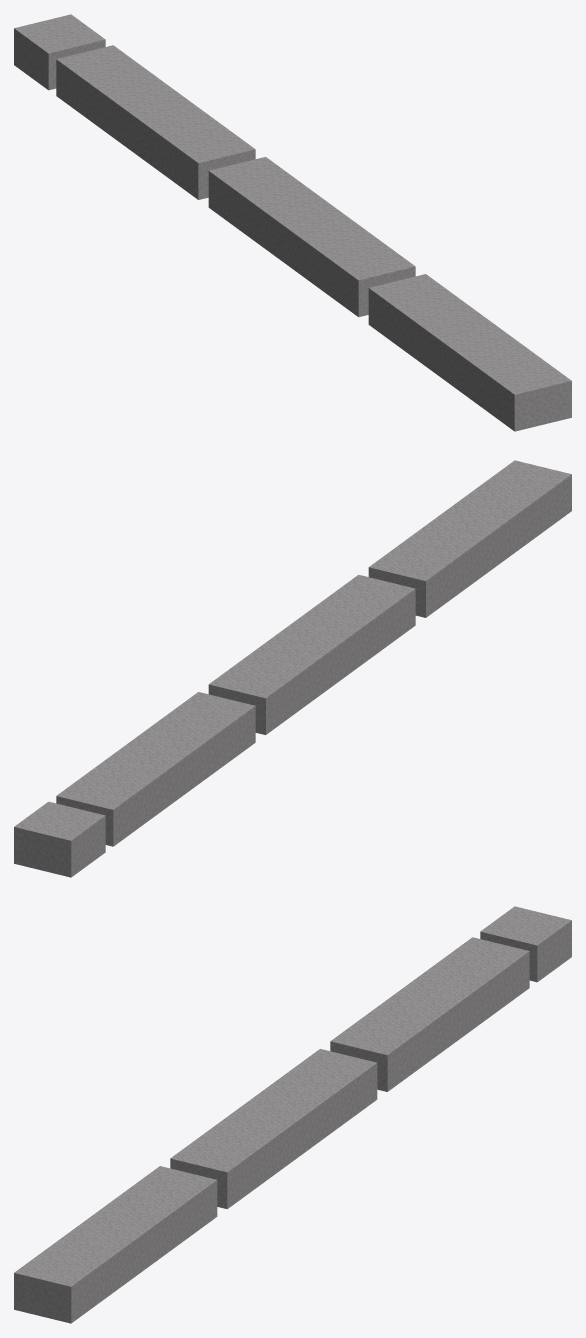
3 renders of one model, top to bottom at view 1: azimuth 30°, elevation 25°; view 2: azimuth 150°, elevation 25°; view 3: azimuth 330°, elevation 25°, orthographic.
Parts seen in each view (by area): view 1: 0_3_1_1_1_2_2_0_3; view 2: 0_3_1_1_1_2_2_0_3; view 3: 0_3_1_1_1_2_2_0_3.
Part boxes in pixels (x1,y1,x2,y2): 0_3_1_1_1_2_2_0_3: (14,14,571,431); 0_3_1_1_1_2_2_0_3: (14,460,571,877); 0_3_1_1_1_2_2_0_3: (14,906,571,1323).
Size of the model in its own units: 1.3 by 0.8 by 19.71.
3 materials, 3 textured.
